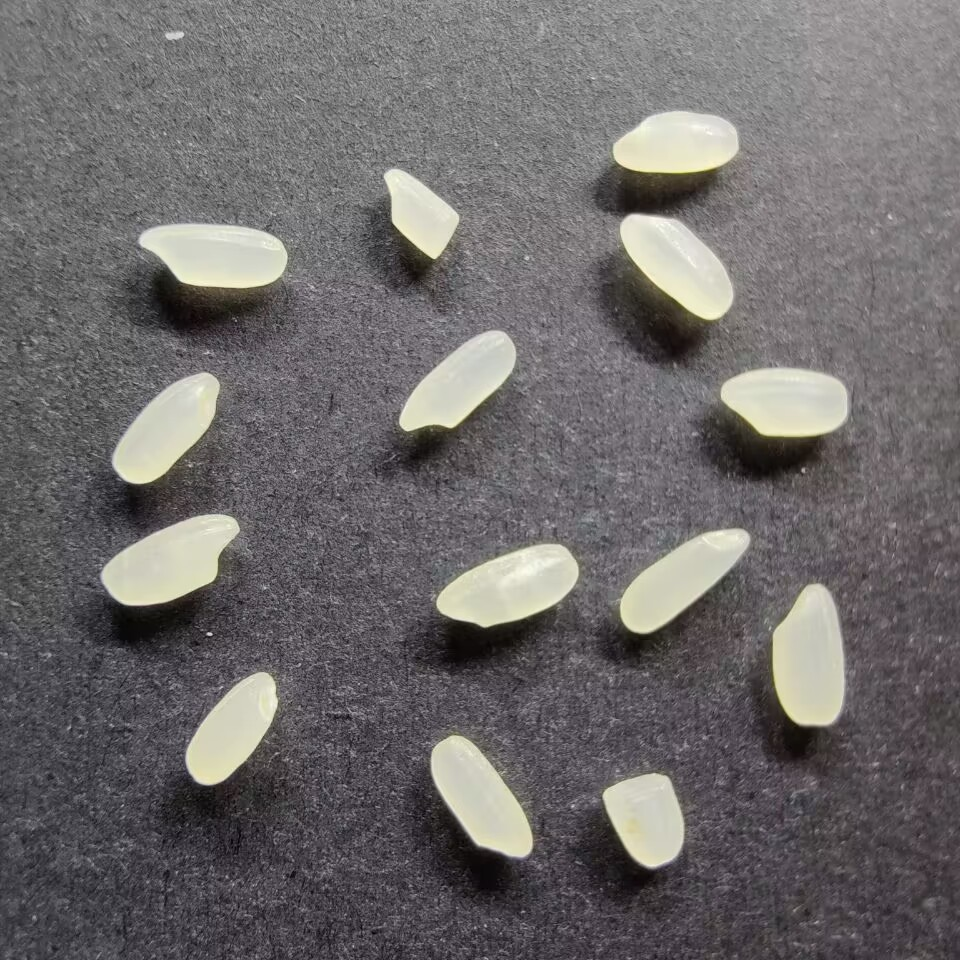broken: (601, 773, 688, 868), (381, 168, 461, 262)
rice: (618, 526, 752, 634), (429, 732, 535, 859), (100, 512, 240, 607), (618, 210, 735, 321), (435, 541, 580, 629), (112, 368, 220, 486), (397, 330, 518, 432), (768, 582, 846, 727), (183, 670, 278, 786), (136, 222, 287, 289), (718, 365, 849, 437), (611, 109, 739, 175)
